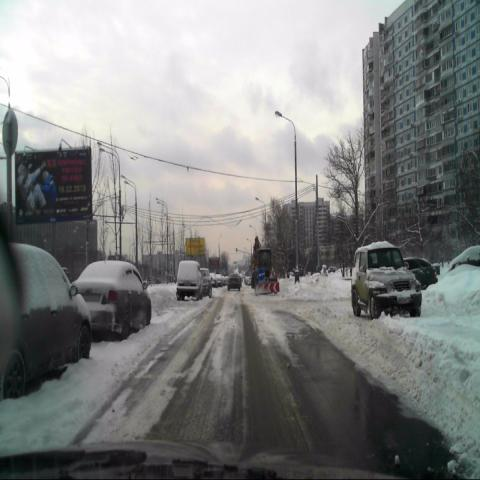1_25: (268, 264, 277, 281)
4_1_2_2: (258, 267, 265, 281)
